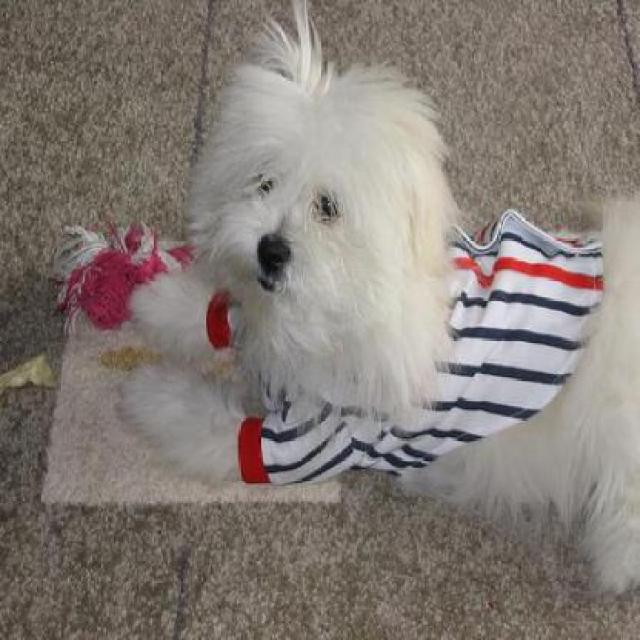Dog: (127, 22, 638, 590)
